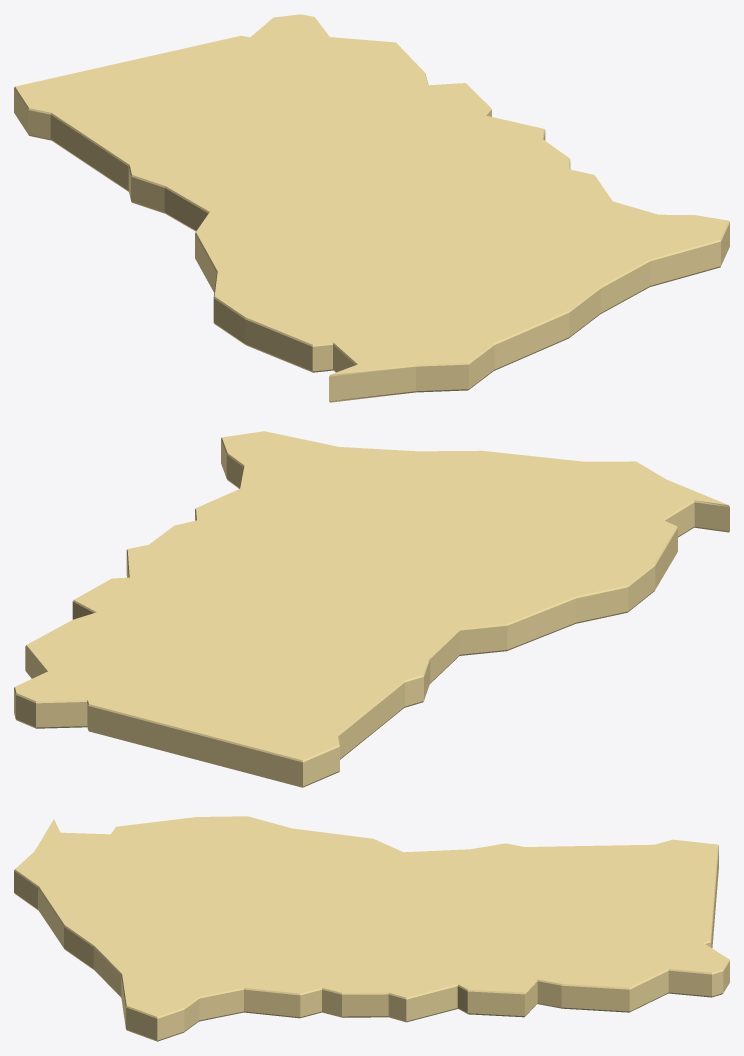
File: GHA.glb
3 views of the same model, one above another, from view 1: azimuth 30°, elevation 25°; view 2: azimuth 150°, elevation 25°; view 3: azimuth 270°, elevation 25° (orthographic). The views are drawn at different scales.
Bounding box in the file's own units: 1.19 × 0.068 × 1.78.
